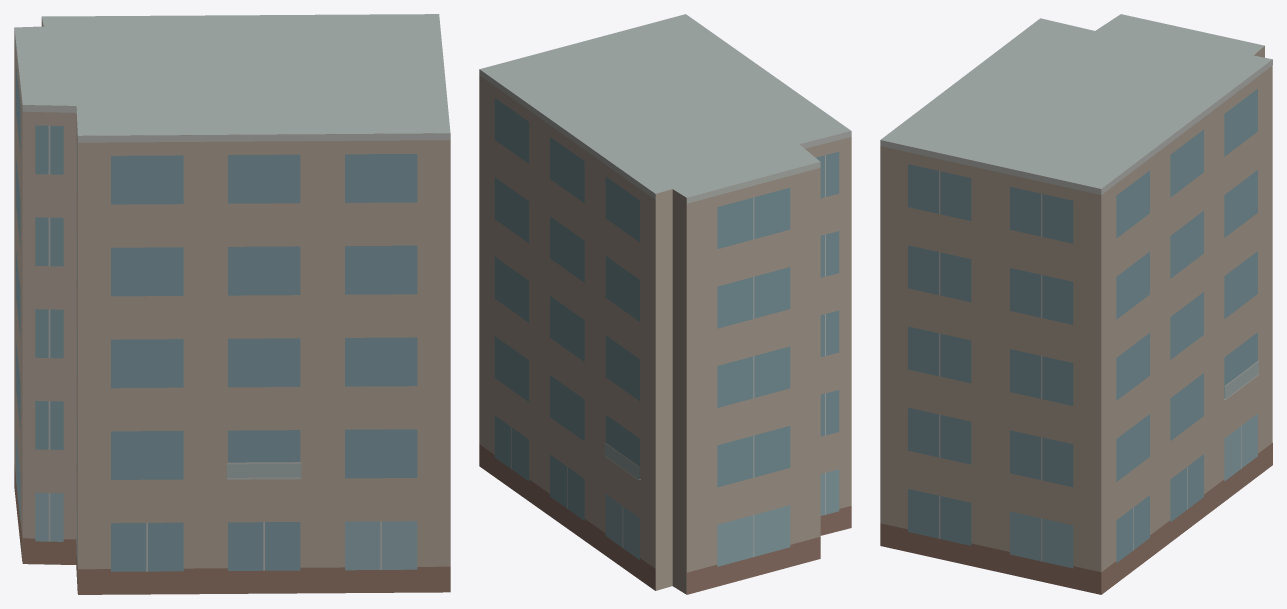
File: survey-upis-32878420.glb
3 views of the same model, side by side, from view 1: azimuth 30°, elevation 25°; view 2: azimuth 150°, elevation 25°; view 3: azimuth 270°, elevation 25° (orthographic). The views are drawn at different scales.
Parts seen in each view (by area): view 1: survey-upis-32878420.tmp; view 2: survey-upis-32878420.tmp; view 3: survey-upis-32878420.tmp.
Boxes of the visible parts, x1,y1,x2,y2 form: survey-upis-32878420.tmp: (14, 14, 450, 594); survey-upis-32878420.tmp: (479, 14, 851, 594); survey-upis-32878420.tmp: (880, 14, 1272, 594).
Bounding box in the file's own units: 15.08 × 16.3 × 14.29.
